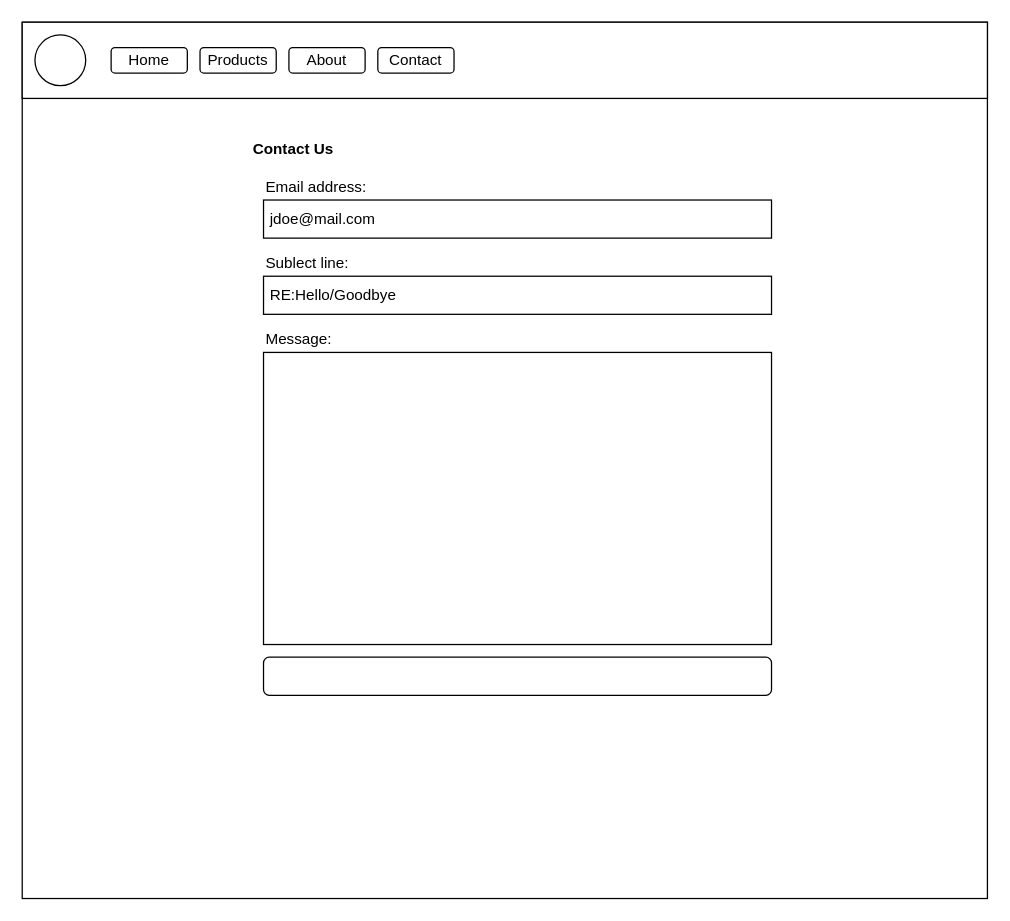
Image size: 1010x921. Some labels were removed from this diagram. The box of each missing label's shape, as (x1, y1, x2, y2) in pixels:
logo: (34, 34, 86, 86)
Please enter text: (262, 351, 772, 645)
Send: (262, 656, 772, 695)
